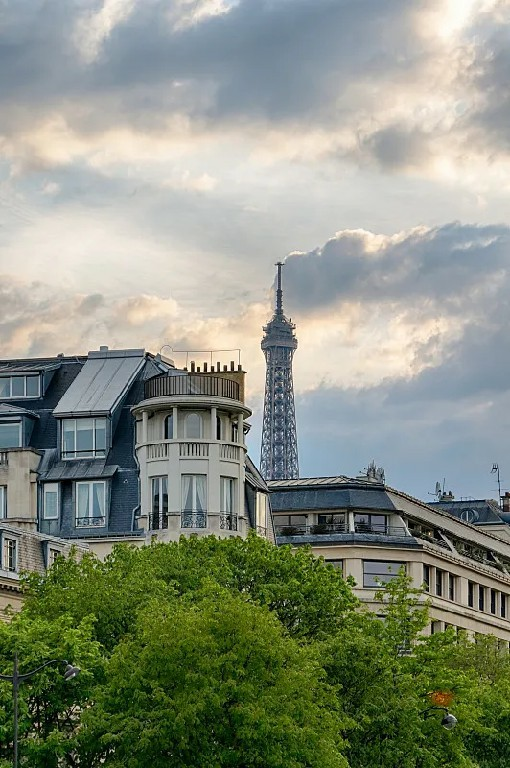Eiffel: (257, 262, 301, 480)
